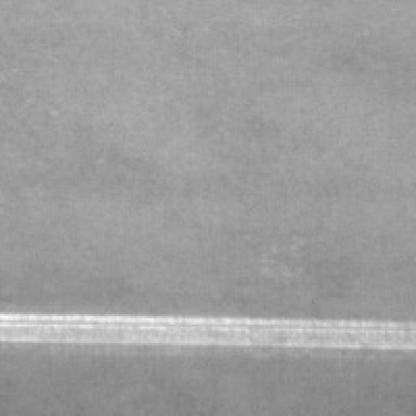scratches: (0, 308, 402, 349)
